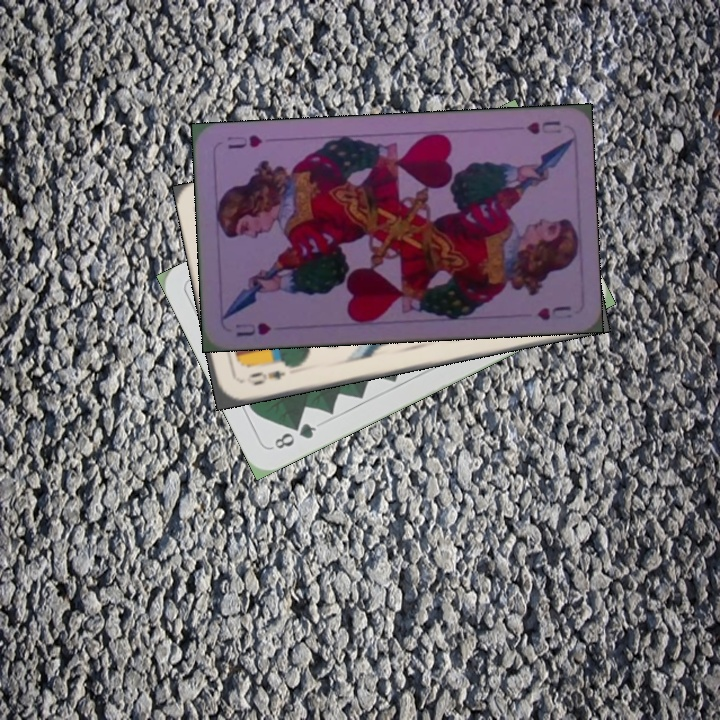EO: (245, 366, 289, 388)
G8: (270, 419, 319, 452)
HU: (231, 318, 274, 340), (522, 116, 564, 137)
